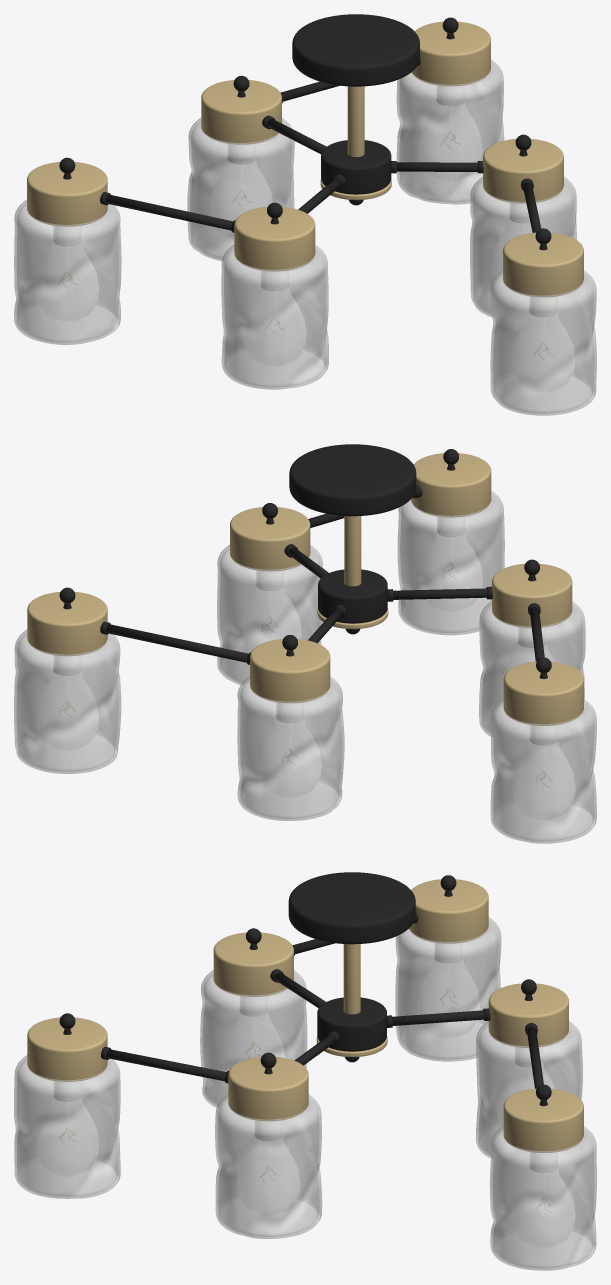
The picture shows the model from 3 angles, top to bottom: view 1: azimuth 30°, elevation 25°; view 2: azimuth 150°, elevation 25°; view 3: azimuth 270°, elevation 25°; orthographic projection.
Visible parts, largest first — view 1: glass, gold, black, bulb_cap; view 2: glass, gold, black, bulb_cap; view 3: glass, gold, black, bulb_cap.
Boxes of the visible parts, x1,y1,x2,y2 form: glass: [14, 59, 596, 415]; gold: [27, 21, 583, 297]; black: [59, 14, 551, 250]; bulb_cap: [53, 85, 557, 316]; glass: [14, 491, 596, 843]; gold: [27, 453, 583, 725]; black: [59, 444, 551, 678]; bulb_cap: [53, 517, 557, 745]; glass: [14, 917, 596, 1270]; gold: [27, 879, 583, 1152]; black: [59, 872, 551, 1106]; bulb_cap: [53, 943, 557, 1172].
Size of the model in its own units: 0.5688 by 0.27 by 0.5509.
Materials: 6 (1 with a texture image).
